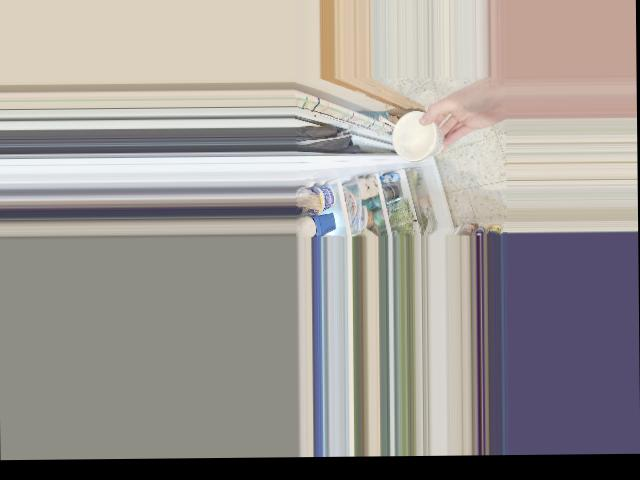cotage: (394, 115, 441, 159)
